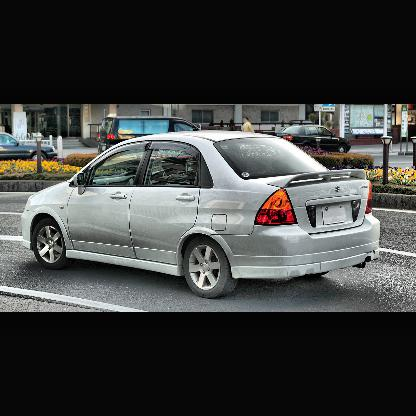Suzuki Aerio Sedan 2007: (22, 130, 382, 298)
